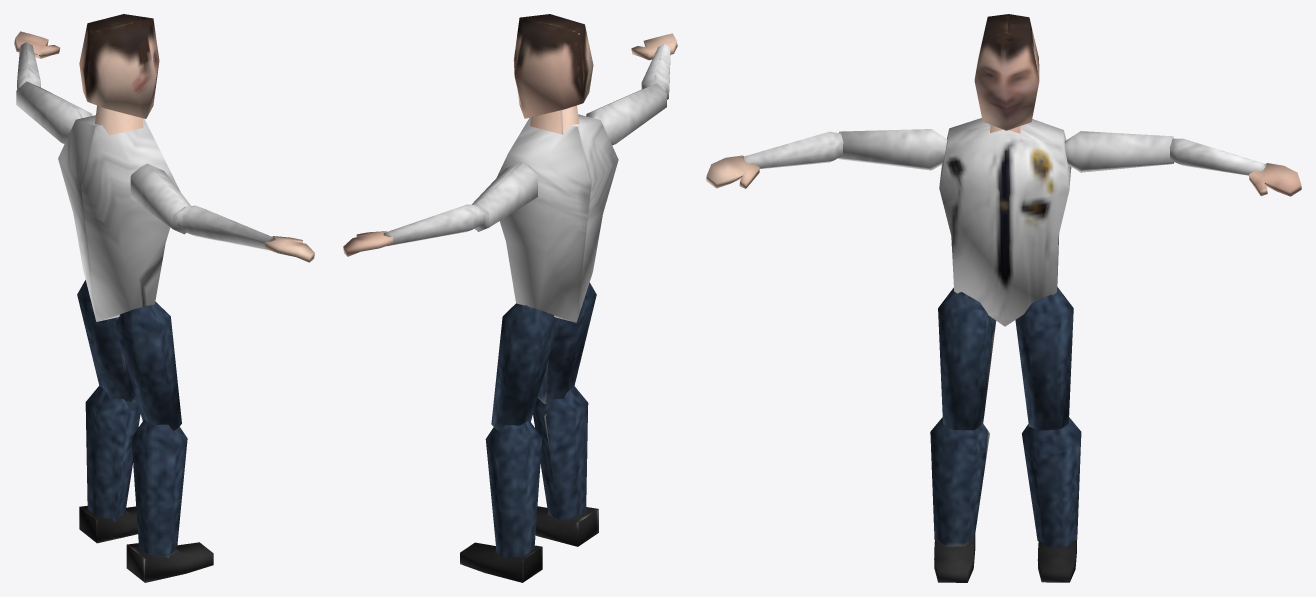
The model's file is fx_chara.fbx.
3 views of the same model, side by side, from view 1: azimuth 30°, elevation 25°; view 2: azimuth 150°, elevation 25°; view 3: azimuth 270°, elevation 25° (orthographic).
Visible parts, largest first — view 1: Mall_Cop; view 2: Mall_Cop; view 3: Mall_Cop.
Part boxes in pixels (x1,y1,x2,y2): Mall_Cop: [14, 14, 314, 582]; Mall_Cop: [343, 14, 677, 582]; Mall_Cop: [706, 14, 1301, 582].
Bounding box in the file's own units: 36.44 × 173 × 177.
